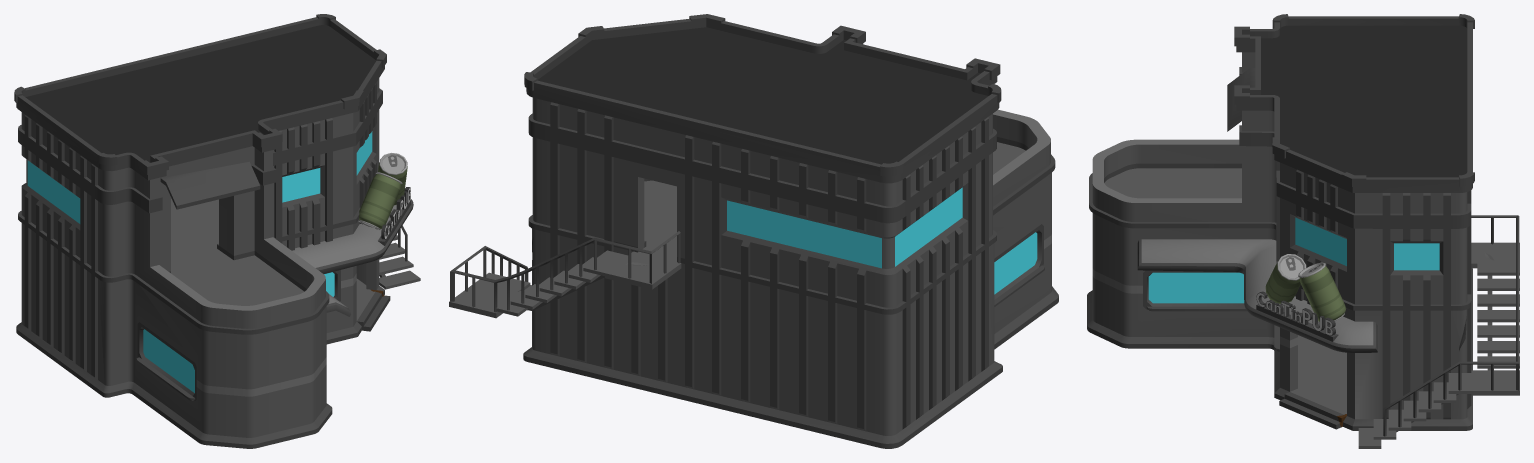
File: SM_Buildings_Commercial_11.fbx
3 renders of one model, left to right at view 1: azimuth 30°, elevation 25°; view 2: azimuth 150°, elevation 25°; view 3: azimuth 270°, elevation 25°, orthographic. The views are drawn at different scales.
Parts seen in each view (by area): view 1: SM_Buildings_Commercial_11; view 2: SM_Buildings_Commercial_11; view 3: SM_Buildings_Commercial_11.
Part boxes in pixels (x1,y1,x2,y2): SM_Buildings_Commercial_11: (14, 14, 420, 448); SM_Buildings_Commercial_11: (449, 14, 1058, 448); SM_Buildings_Commercial_11: (1087, 14, 1519, 448).
Bounding box in the file's own units: 11.6 × 7.45 × 11.55.
